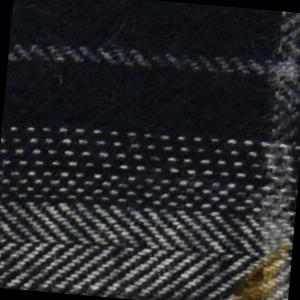Damage: (224, 246, 285, 300)
Oil Stain: (209, 228, 294, 300)
